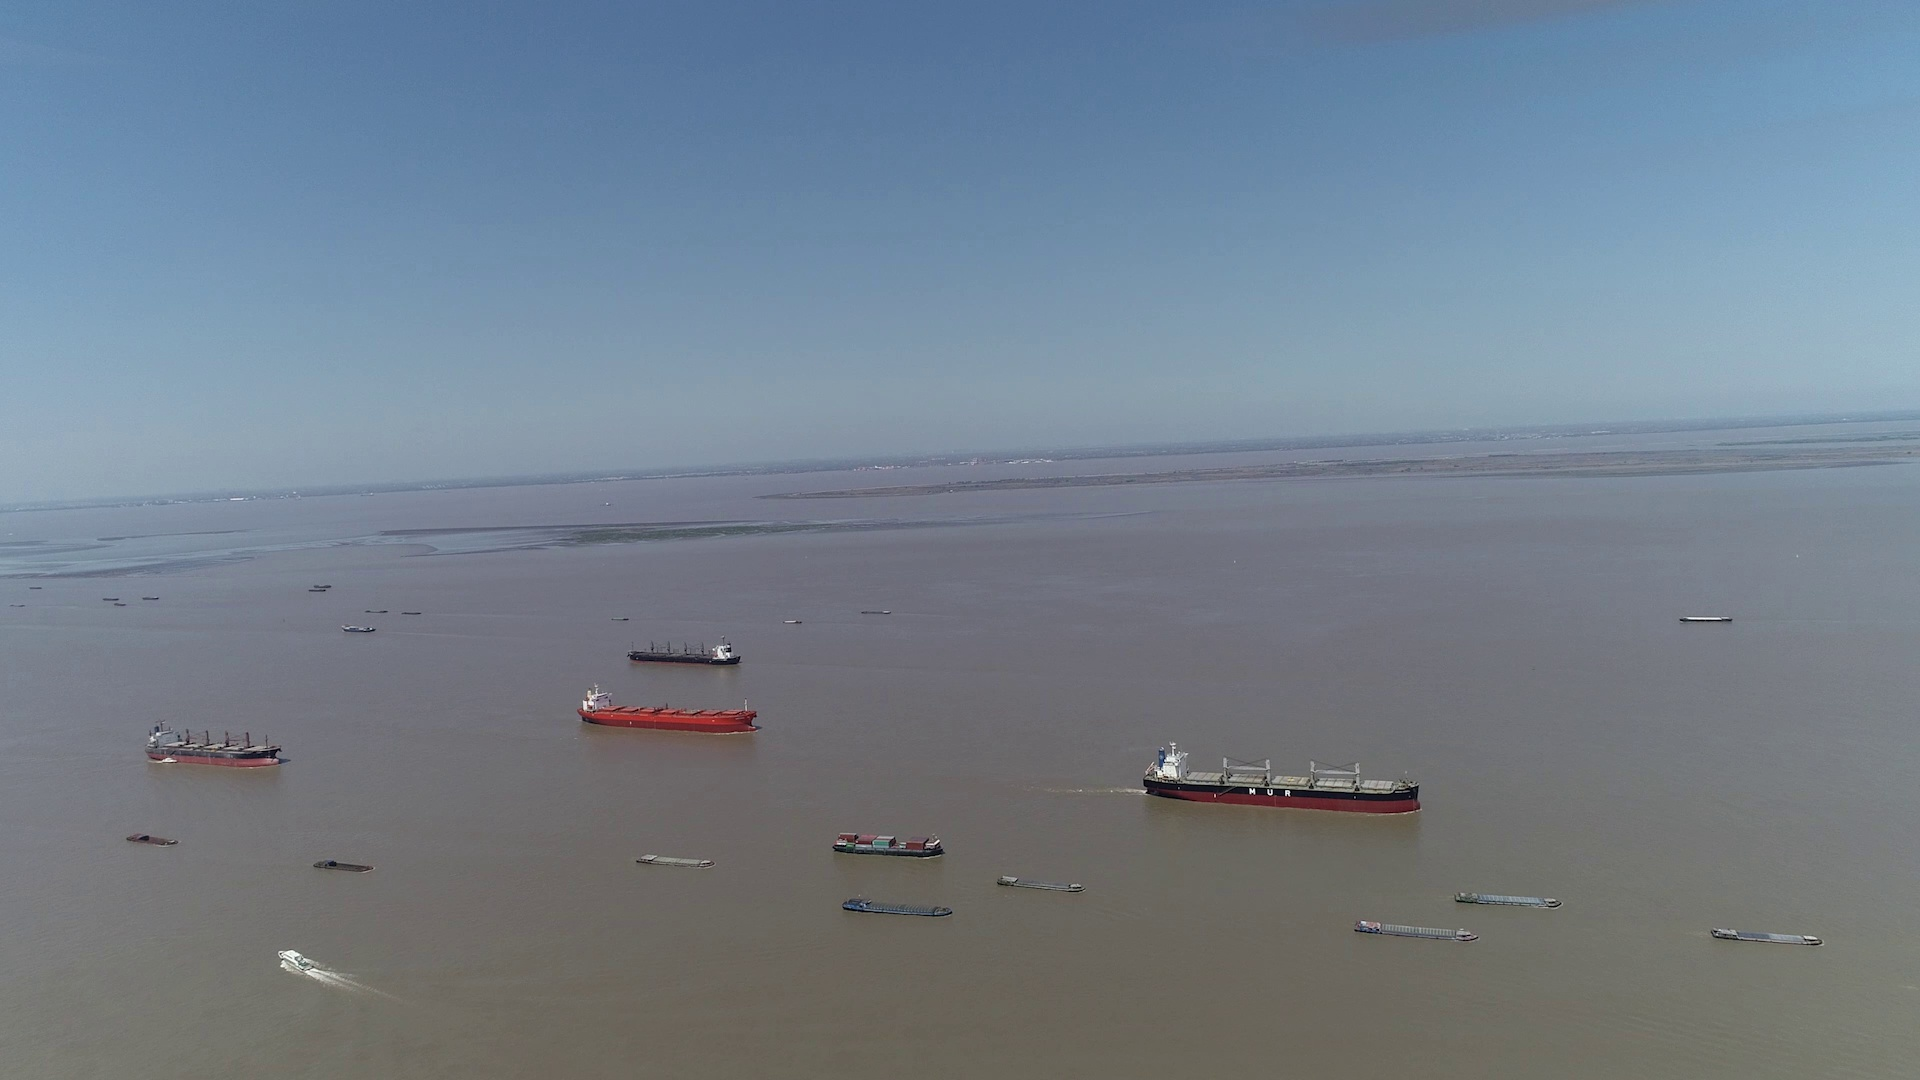ship: (1142, 742, 1425, 814), (578, 684, 754, 733), (145, 721, 282, 767), (829, 831, 945, 858), (1356, 918, 1484, 942), (625, 640, 738, 665), (843, 898, 952, 919), (1712, 926, 1824, 945), (1452, 889, 1559, 909), (994, 874, 1085, 893), (636, 853, 713, 868), (313, 860, 375, 873), (124, 833, 175, 847), (280, 951, 313, 971), (1677, 613, 1731, 622), (342, 622, 377, 633)
